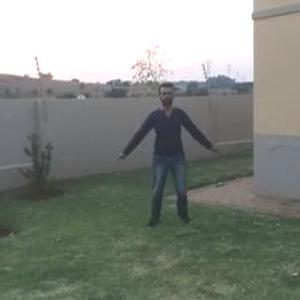land: (102, 80, 219, 229)
